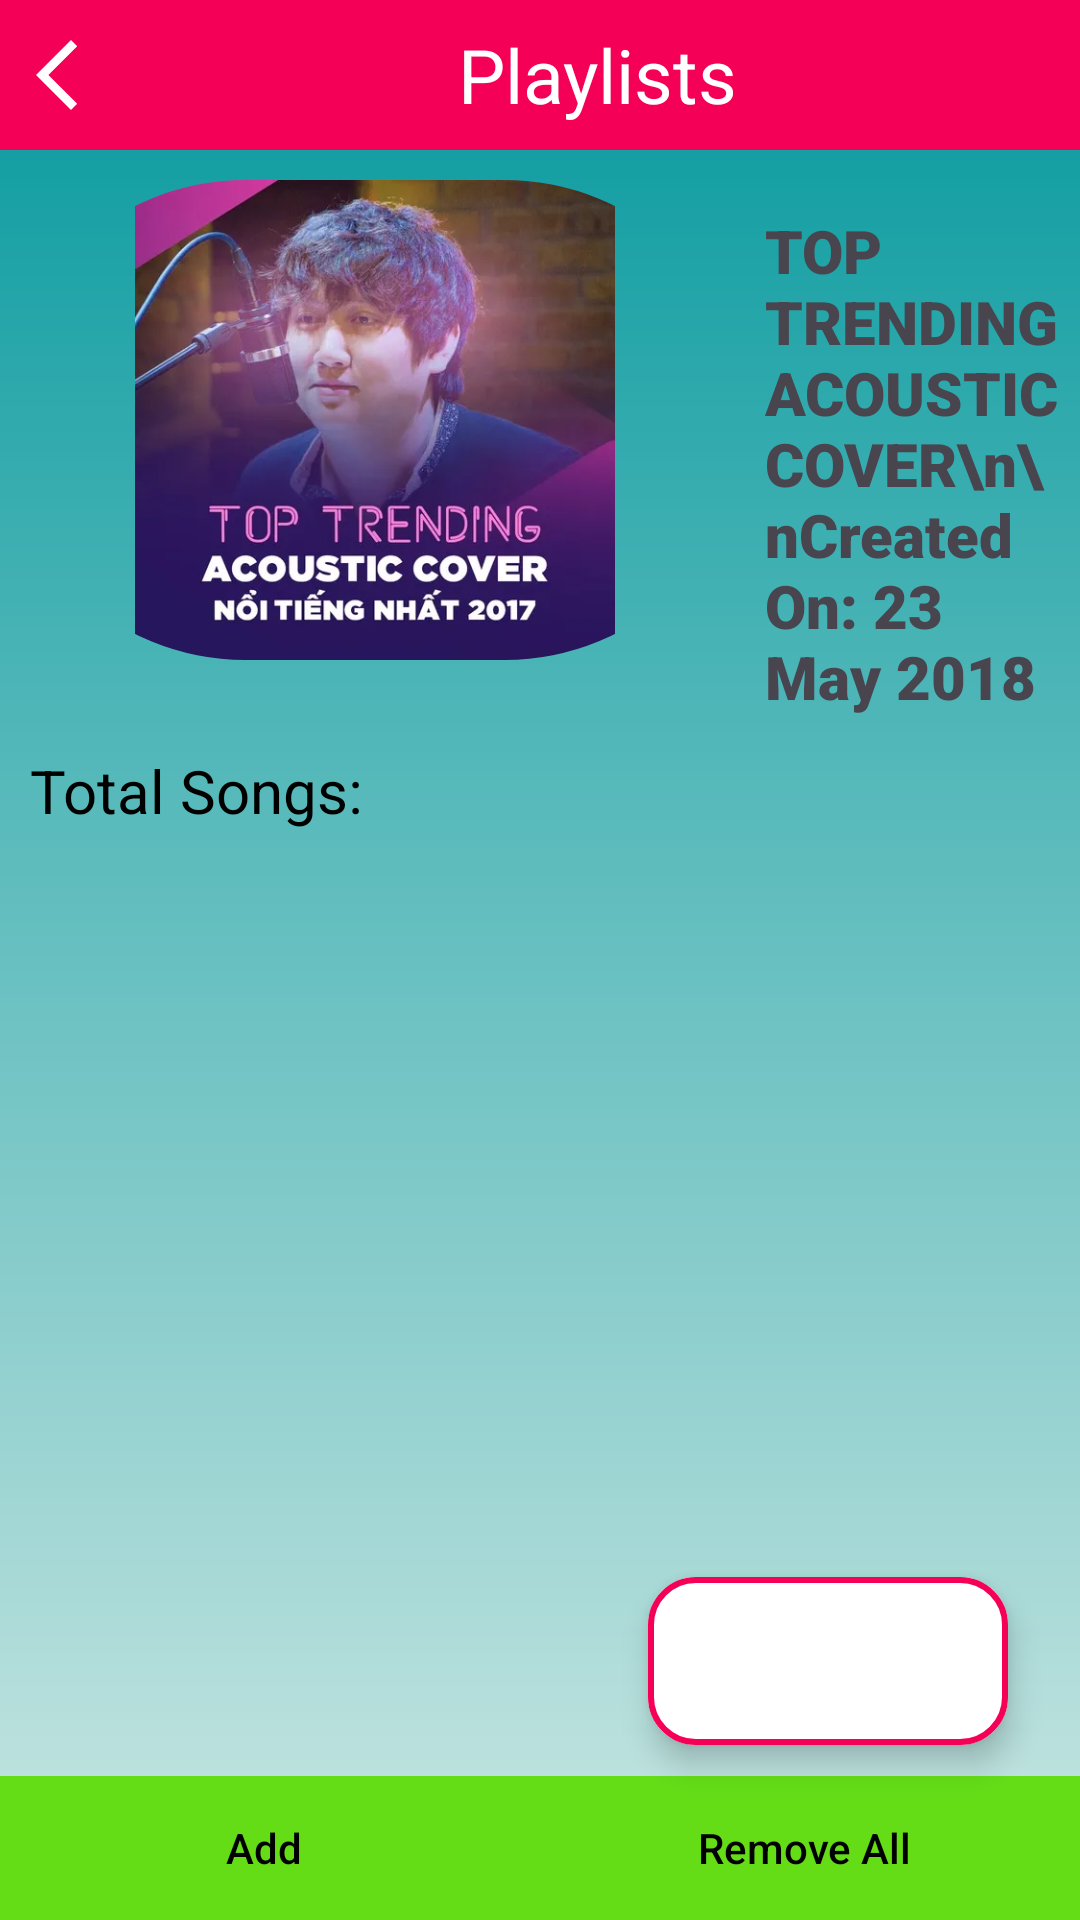

Screen size 1080w x 1920h. Icon name, then its box in pixels as (x1, y1, x2, y2):
Back: (36, 40, 77, 110)
